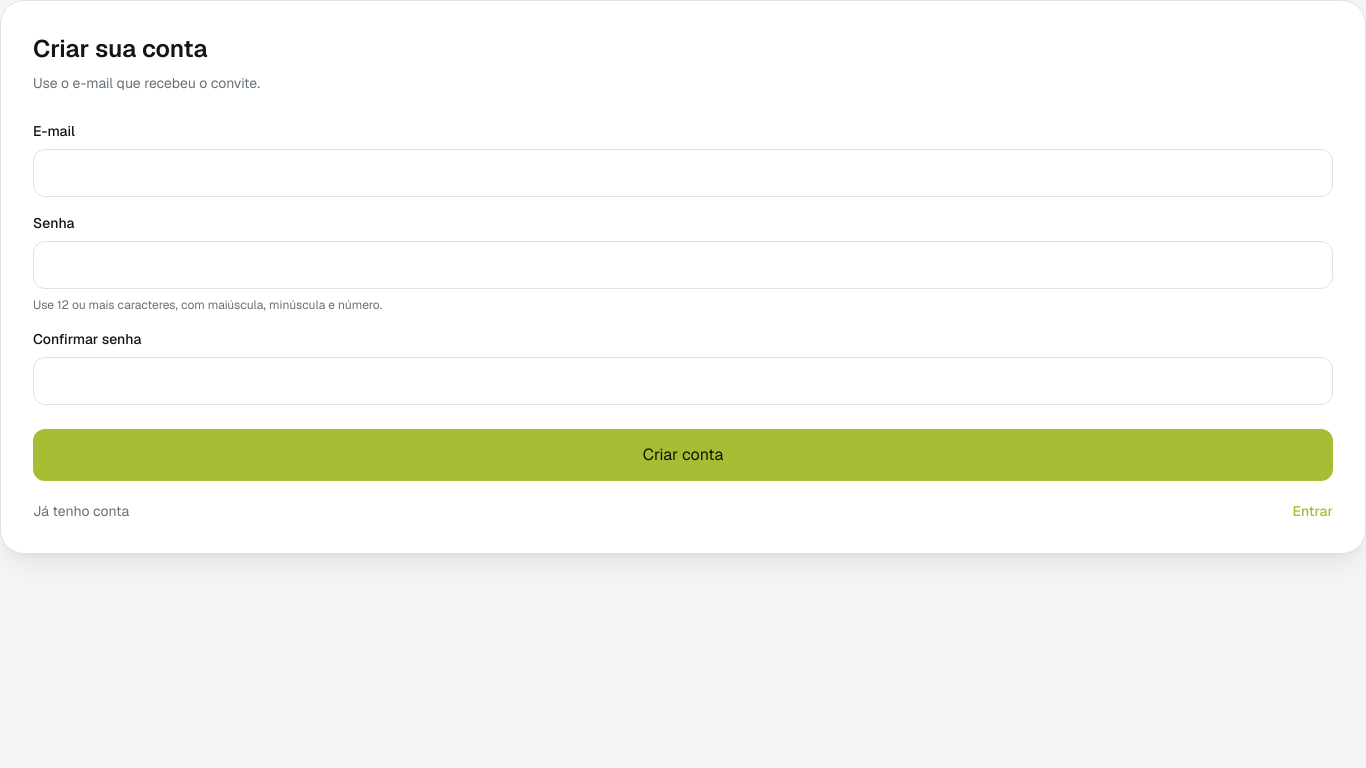
Test case: AuthForm › shows the existing-account guidance instead of a network error
The image size is (1366, 768).
In the field labelled "E-mail": (683, 173) [33,149,1333,197], type "new-member@example.test"
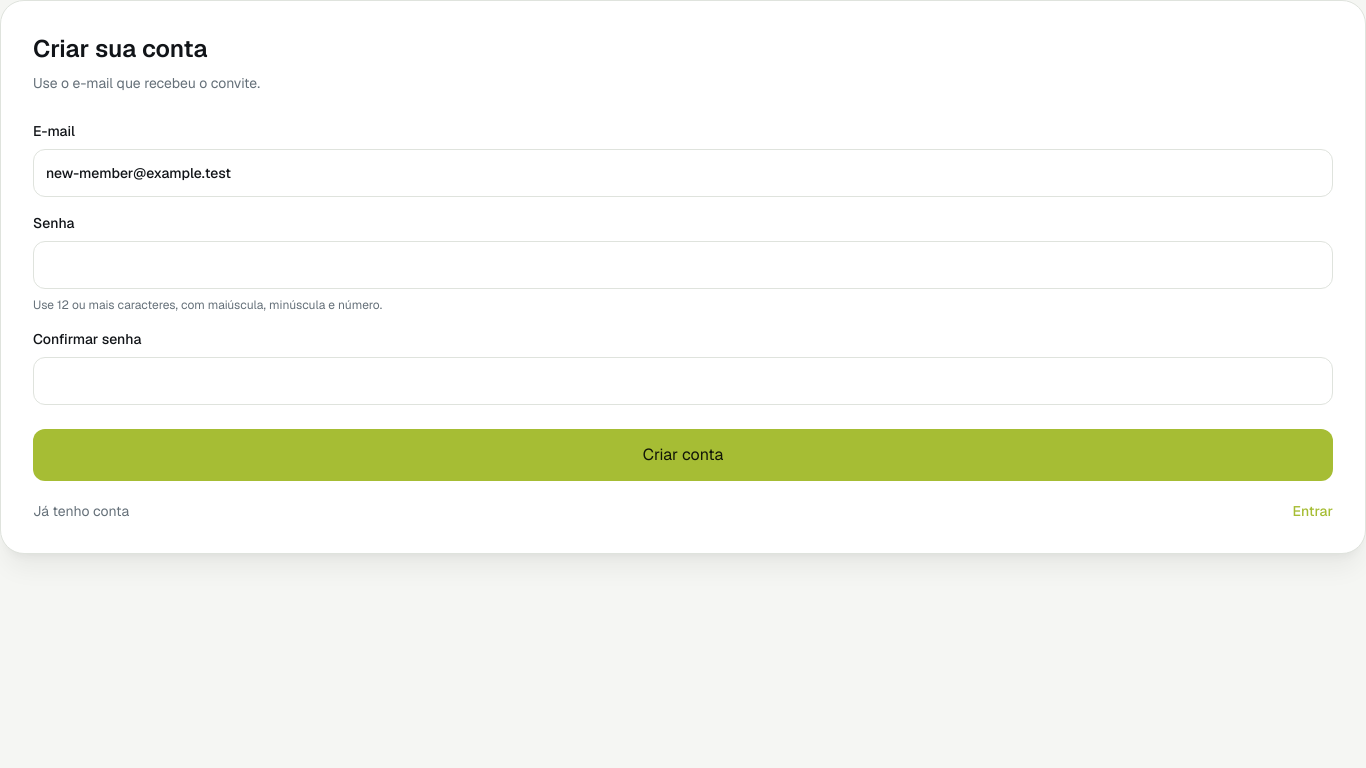
In the password field labelled "Senha": (683, 265) [33,241,1333,289], type "DiagnosticSafe12"
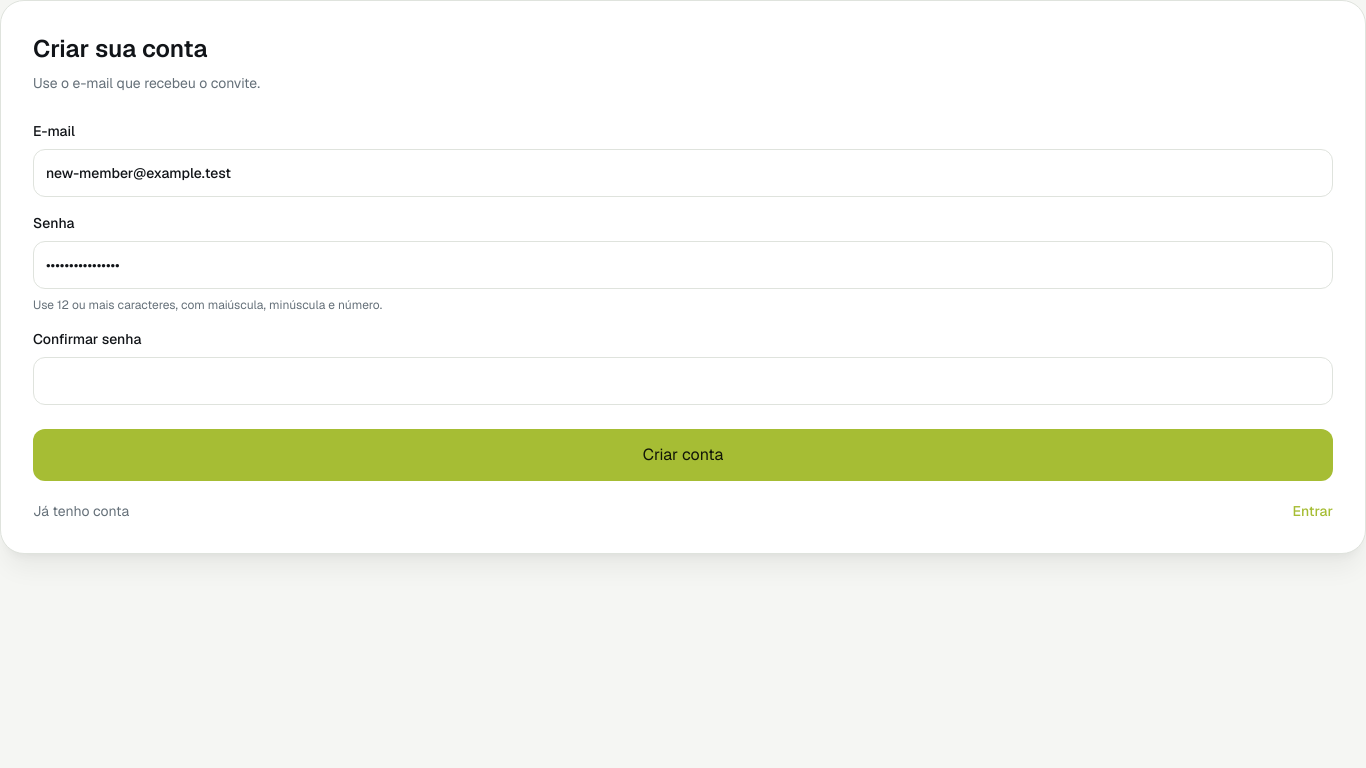
In the password field labelled "Confirmar senha": (683, 381) [33,357,1333,405], type "DiagnosticSafe12"
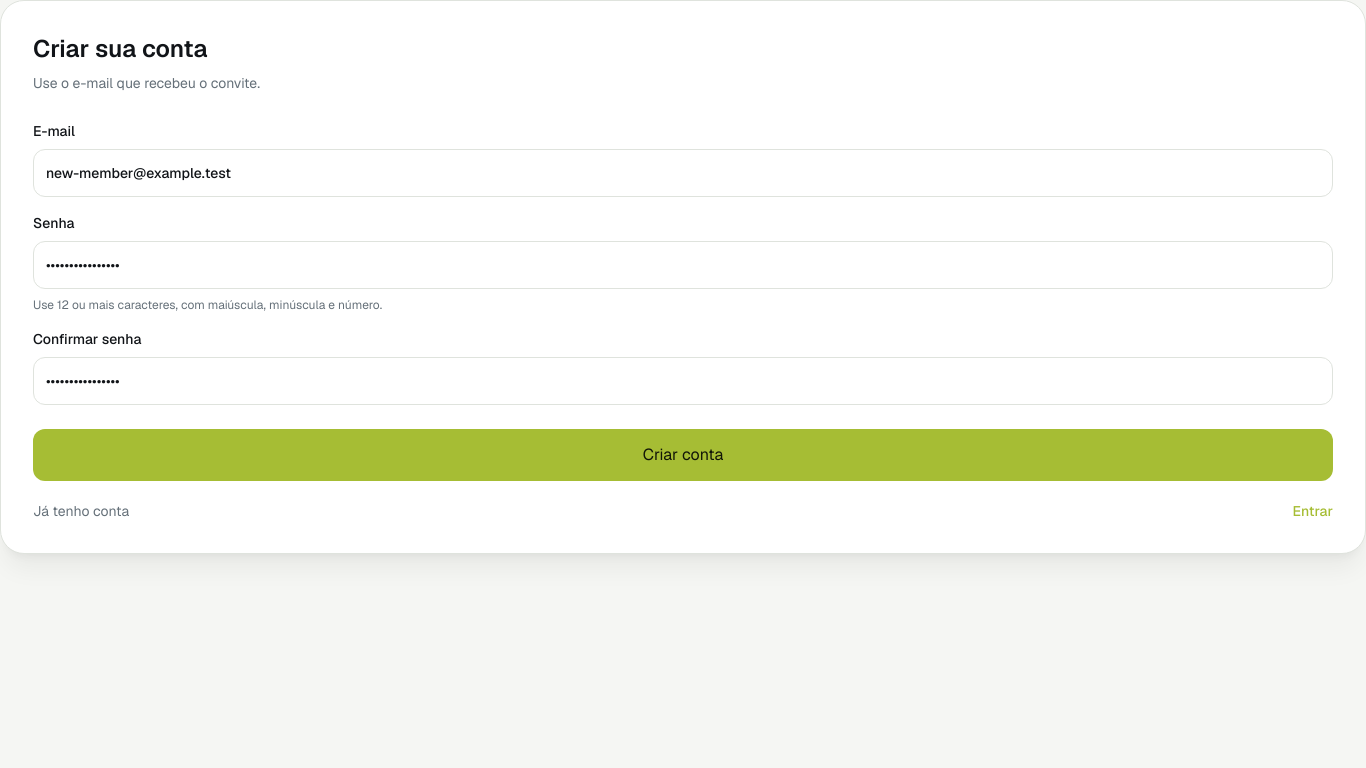
Click the button "Criar conta": (683, 455) [33,429,1333,481]
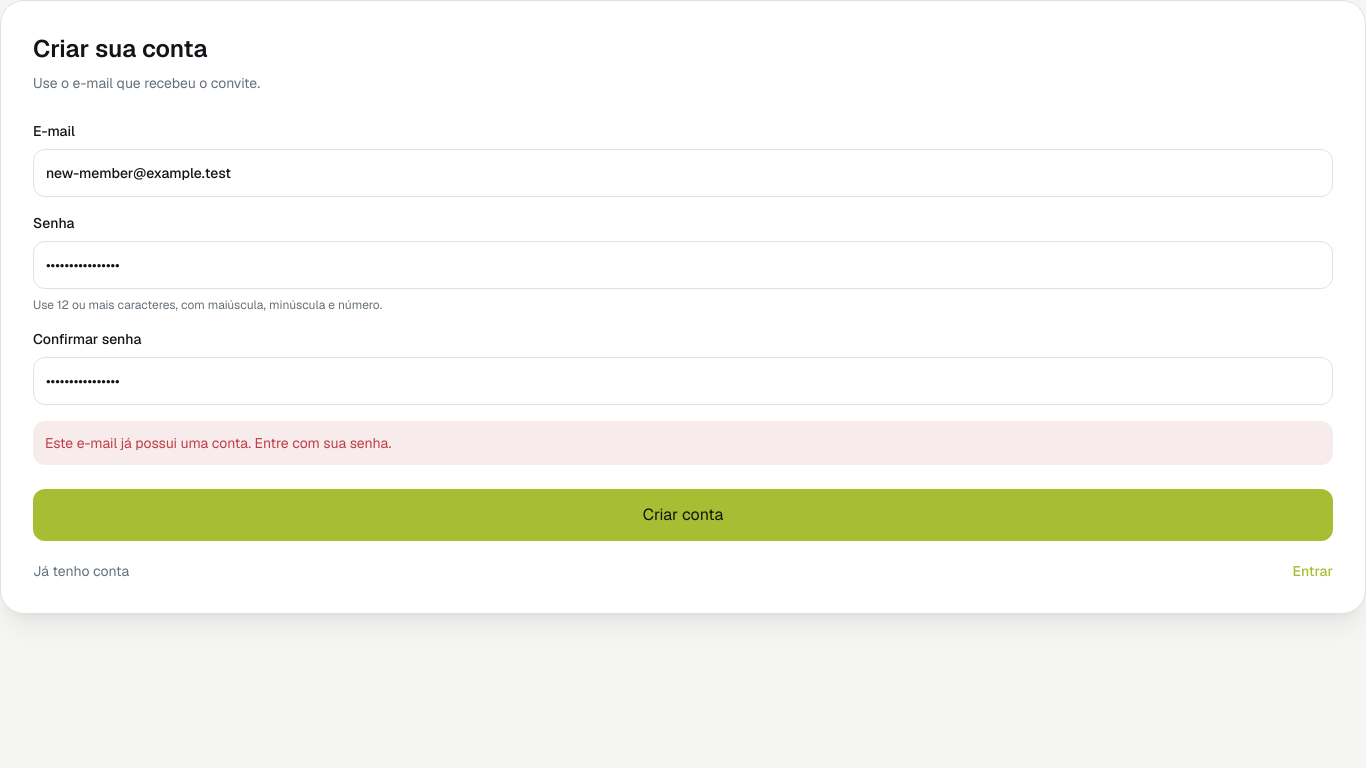
expect the message reads "Este e-mail já possui uma conta. Entre com sua senha.": met, box [45,434,391,452]
